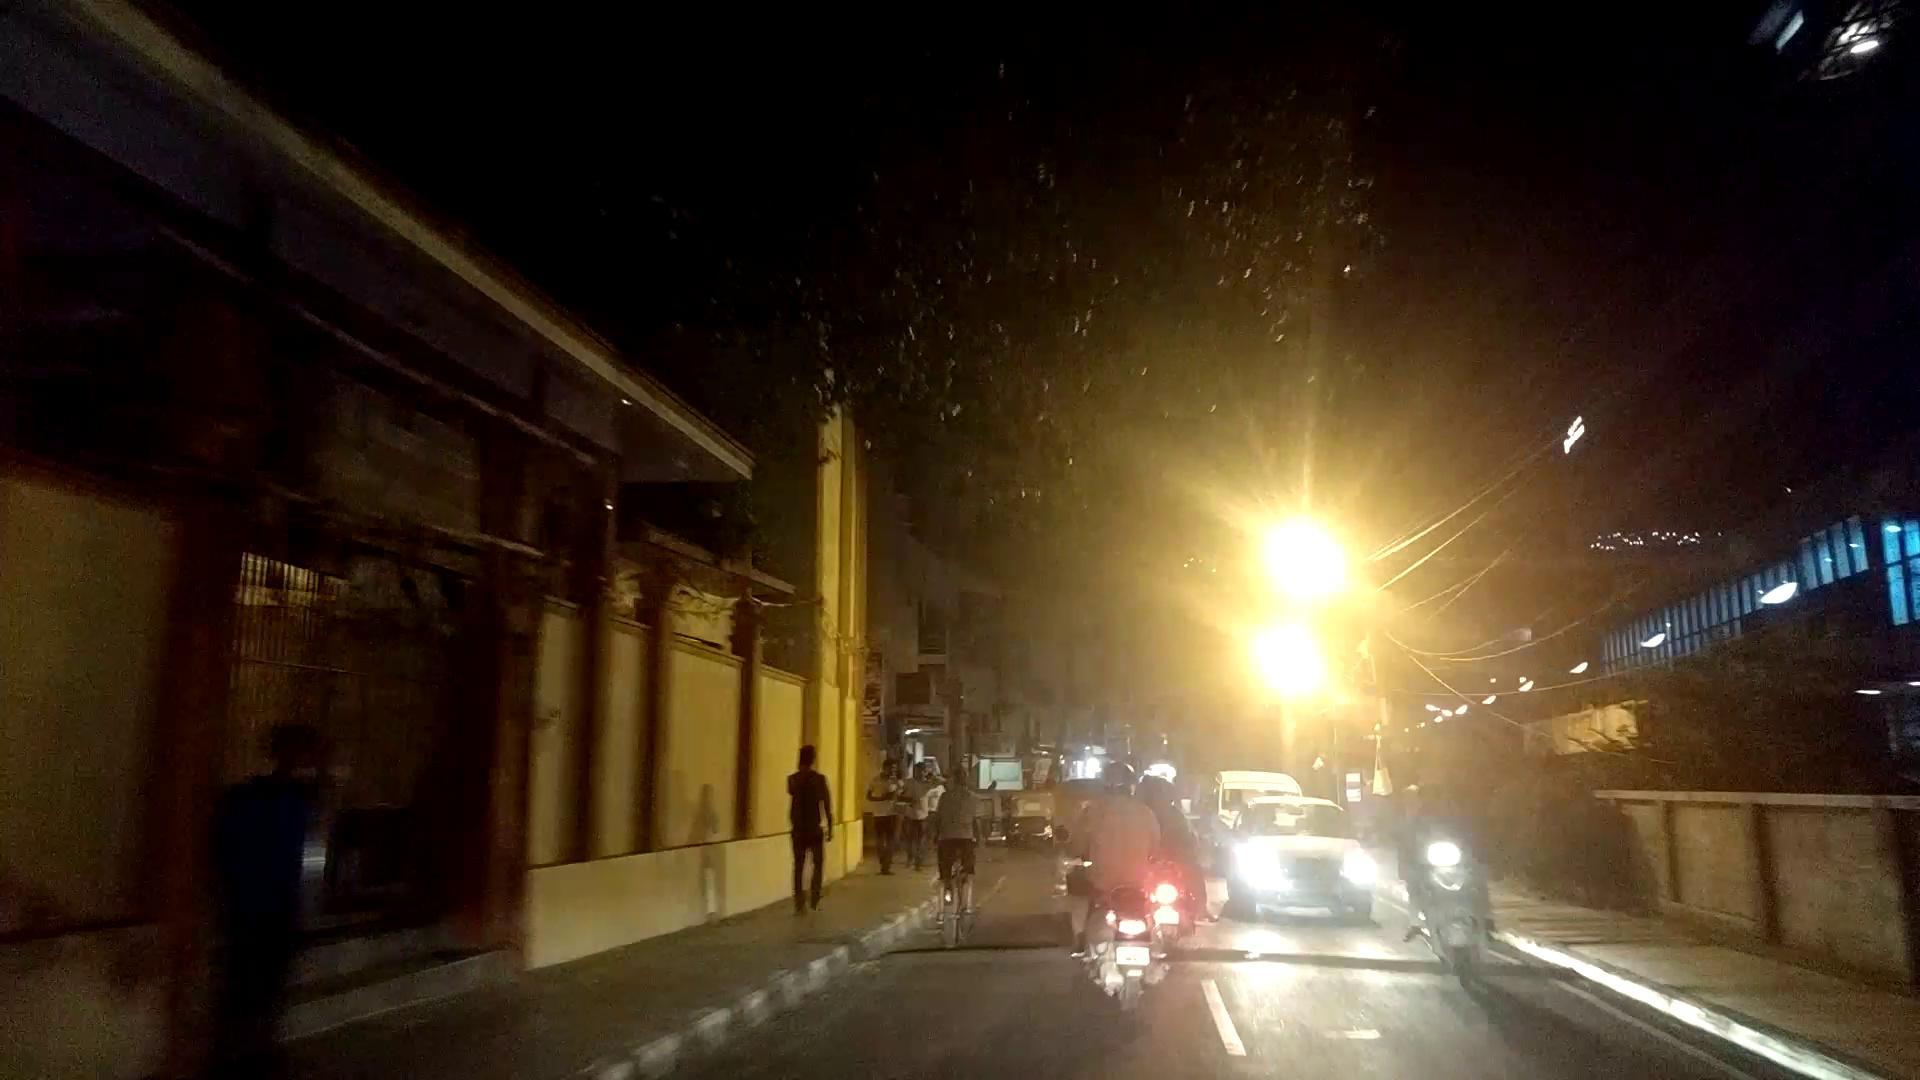on: (1010, 352, 1519, 738)
